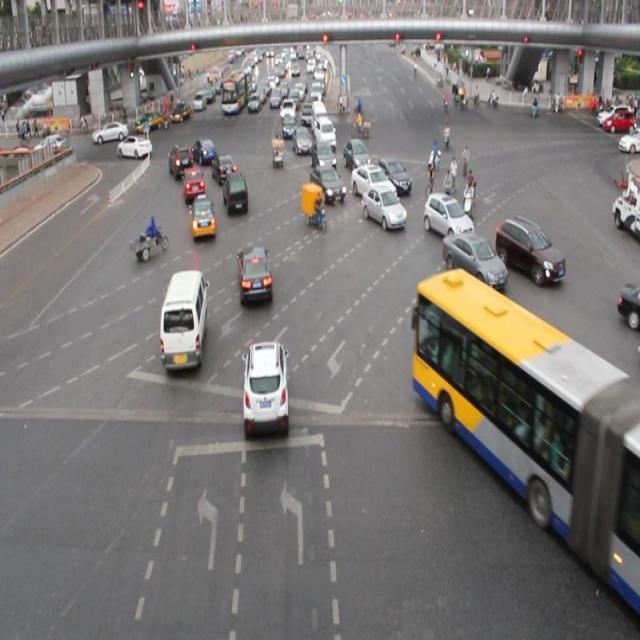car: (241, 342, 289, 437), (494, 217, 564, 280), (442, 231, 506, 287), (423, 191, 472, 239), (237, 245, 273, 305), (362, 185, 405, 230), (351, 162, 396, 203), (374, 158, 410, 193), (310, 164, 343, 202), (222, 170, 249, 216), (190, 195, 216, 240), (616, 280, 640, 328), (167, 144, 194, 181), (341, 138, 370, 170), (117, 134, 151, 160), (182, 167, 205, 203), (311, 139, 336, 172), (212, 153, 236, 185), (193, 136, 216, 165), (291, 124, 312, 155)
truck: (161, 269, 207, 373)
van: (412, 272, 640, 610)
